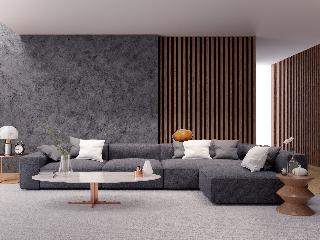potato: (172, 130, 192, 142)
